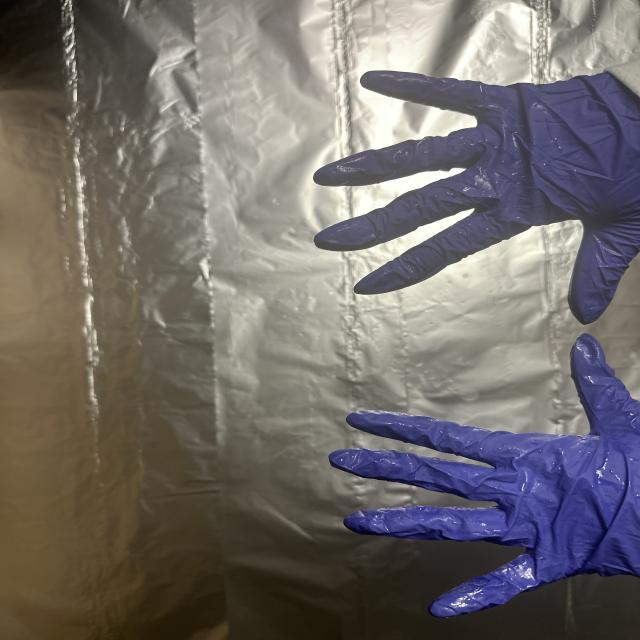gloves_contaminated: (329, 334, 640, 617), (314, 71, 640, 324)
